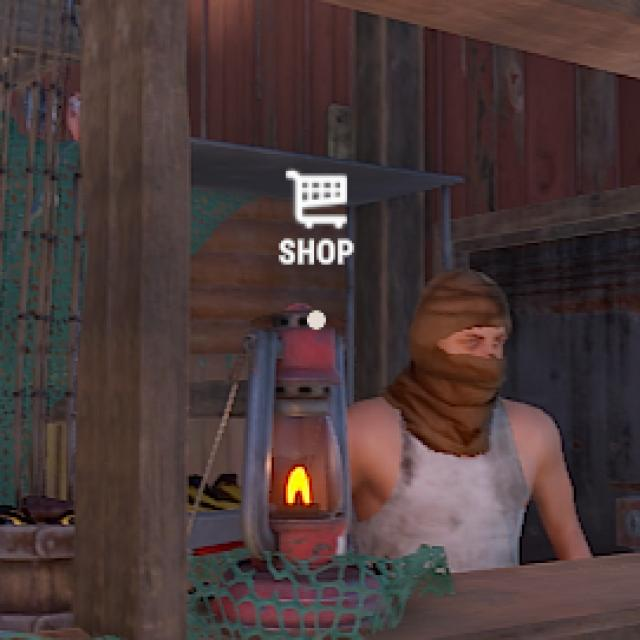Player: (348, 273, 594, 559)
